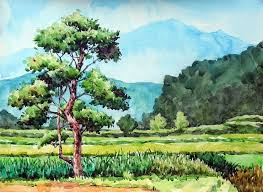field: (1, 128, 260, 192)
mountain: (119, 20, 260, 125)
tree: (29, 17, 117, 176)
